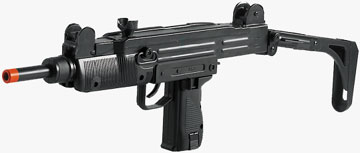rifle: (2, 14, 346, 142)
